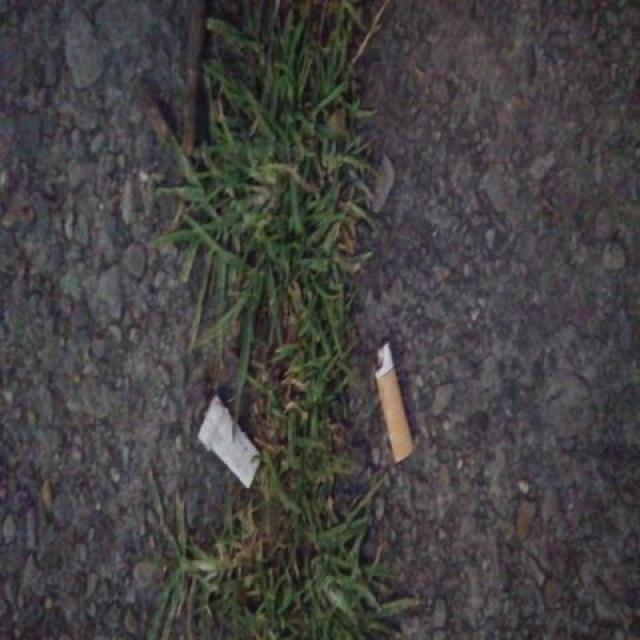non-organic waste: (193, 391, 267, 492), (370, 337, 419, 468)
